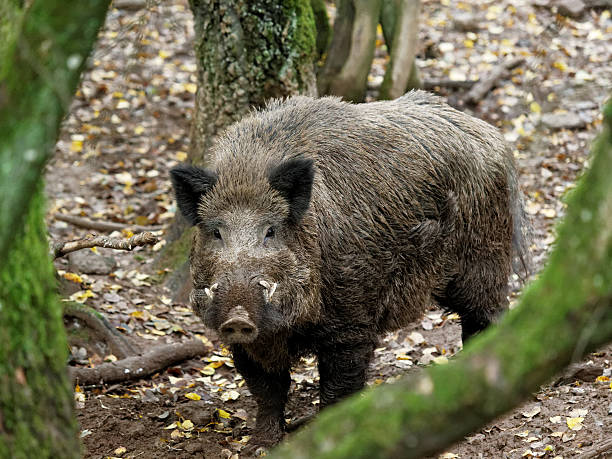pig: (172, 114, 483, 340)
